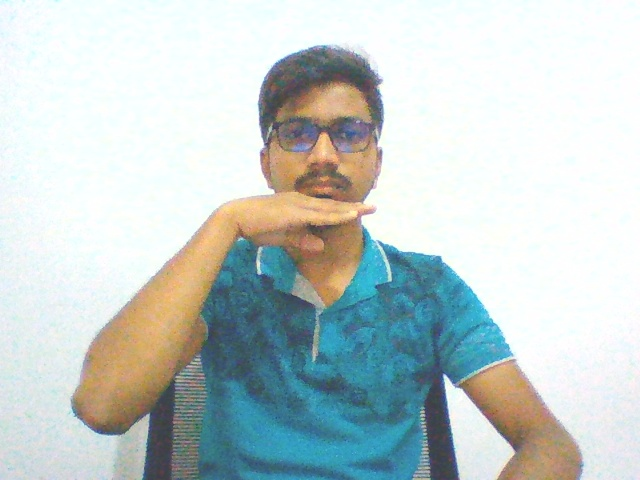elephant: (212, 189, 382, 262)
